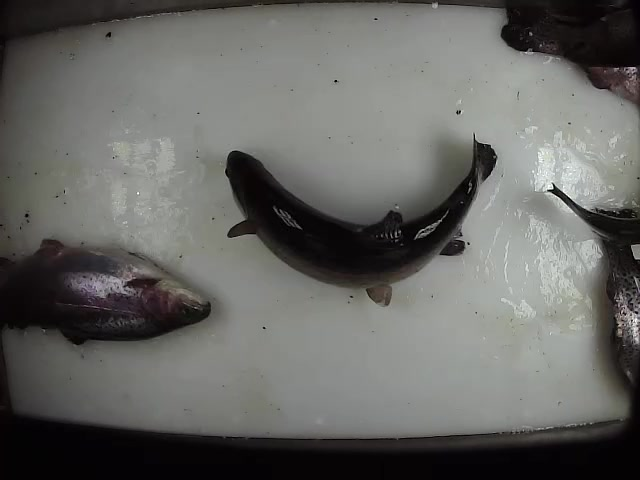fish: (223, 132, 498, 312), (1, 235, 214, 348), (595, 205, 640, 408), (545, 180, 640, 245)
